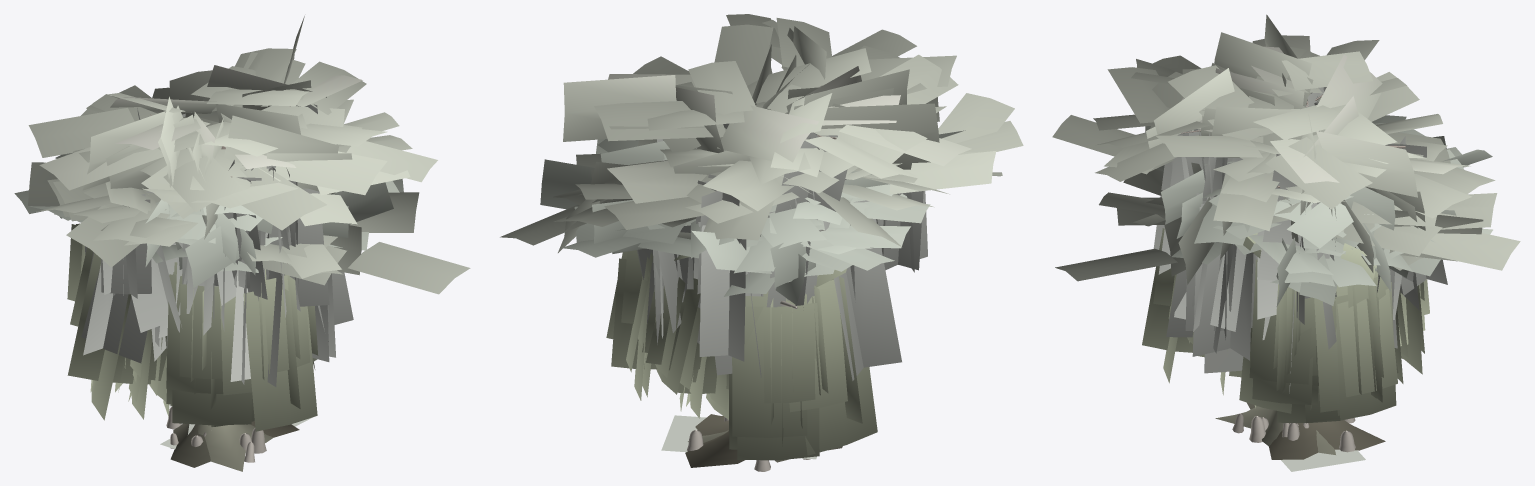
The model's file is swamp_flora.glb.
The picture shows the model from 3 angles, left to right: view 1: azimuth 30°, elevation 25°; view 2: azimuth 150°, elevation 25°; view 3: azimuth 270°, elevation 25°; orthographic projection. The views are drawn at different scales.
Parts seen in each view (by area): view 1: cypress_a_lod0, willow_a_lod0, cypress_b_lod0, knees_a, knees_b; view 2: cypress_a_lod0, willow_a_lod0, cypress_b_lod0, sw_lily_a; view 3: cypress_a_lod0, cypress_b_lod0, willow_a_lod0, knees_a, sw_lily_a, knees_b.
Part boxes in pixels (left/top/right/bottom): cypress_a_lod0: left=28, top=16, right=470, bottom=437; willow_a_lod0: left=67, top=223, right=318, bottom=431; cypress_b_lod0: left=14, top=152, right=403, bottom=467; knees_a: left=170, top=424, right=272, bottom=471; knees_b: left=166, top=407, right=266, bottom=453; cypress_a_lod0: left=500, top=14, right=1023, bottom=467; willow_a_lod0: left=606, top=250, right=877, bottom=460; cypress_b_lod0: left=540, top=130, right=965, bottom=462; sw_lily_a: left=661, top=415, right=816, bottom=459; cypress_a_lod0: left=1052, top=14, right=1520, bottom=459; cypress_b_lod0: left=1145, top=115, right=1492, bottom=409; willow_a_lod0: left=1142, top=228, right=1429, bottom=423; knees_a: left=1215, top=406, right=1355, bottom=454; sw_lily_a: left=1281, top=449, right=1365, bottom=471; knees_b: left=1249, top=416, right=1355, bottom=442.
Size of what is drawn, in the model's own units: 7.48 by 6.82 by 8.2.
